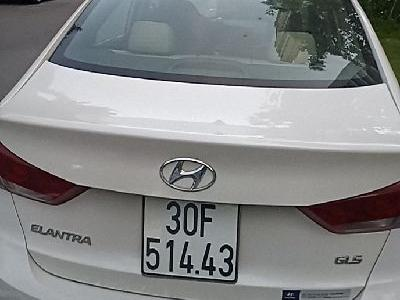car: (142, 193, 240, 284)
